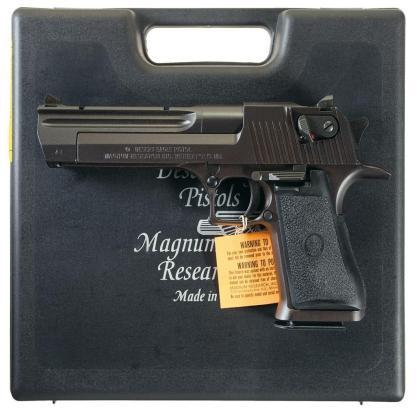Pistol: (36, 91, 392, 332)
